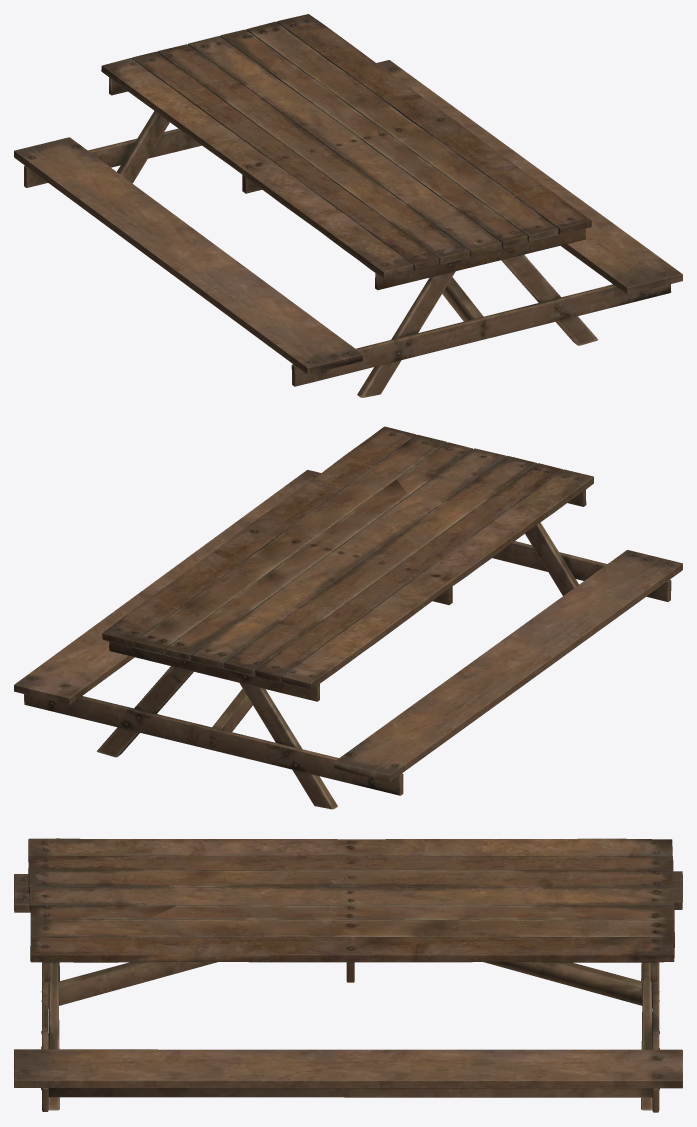
File: picnic_table.glb
3 views of the same model, one above another, from view 1: azimuth 30°, elevation 25°; view 2: azimuth 150°, elevation 25°; view 3: azimuth 270°, elevation 25° (orthographic). The views are drawn at different scales.
Parts seen in each view (by area): view 1: wooden_picnic_table; view 2: wooden_picnic_table; view 3: wooden_picnic_table.
Boxes of the visible parts, bbox=[...] form: wooden_picnic_table: bbox=[14, 14, 682, 397]; wooden_picnic_table: bbox=[14, 426, 682, 809]; wooden_picnic_table: bbox=[14, 838, 682, 1112].
Bounding box in the file's own units: 2.24 × 0.746 × 3.02.
Materials: 2 (2 with a texture image).
